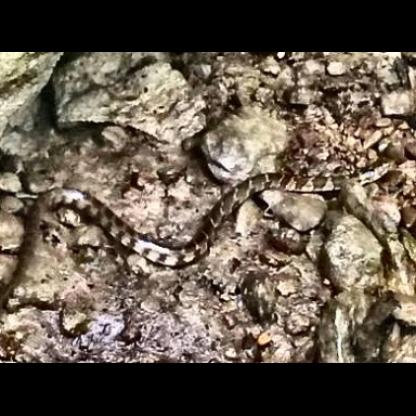Snake: (8, 169, 416, 267)
